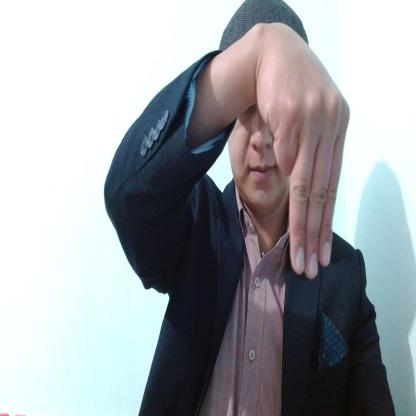M: (258, 20, 352, 276)
